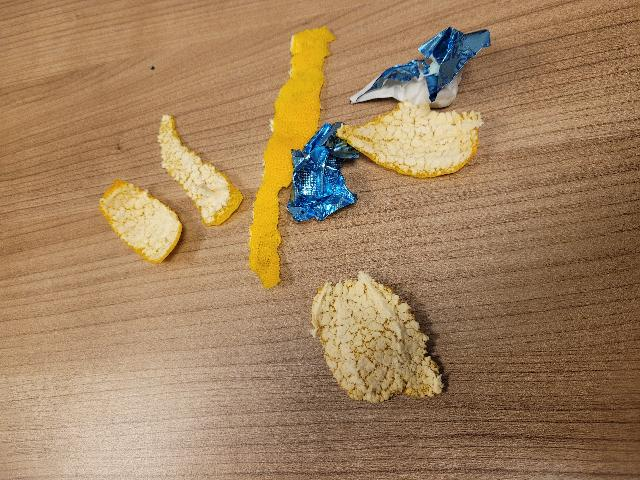Kagit: (349, 25, 495, 112), (289, 121, 359, 221)
Organik: (252, 29, 325, 285), (306, 275, 448, 403), (157, 116, 244, 227), (337, 116, 486, 179), (95, 179, 186, 265)
